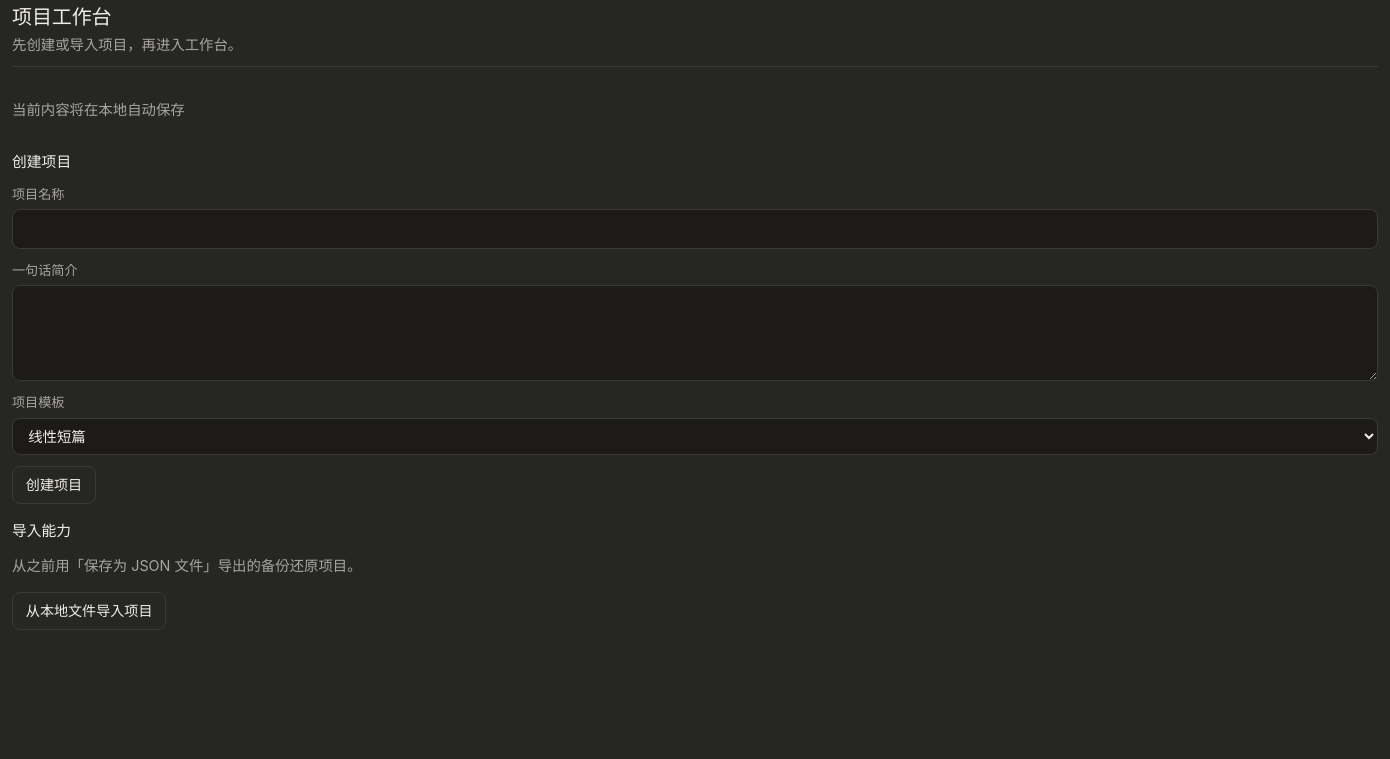
Test: ProjectHomePage › 允许创建共通线 + 角色线模板并初始化结构
Type "雨夜回响" into the field labelled "项目名称".
click(695, 229); type("雨夜回响")  # box [12, 209, 1378, 249]
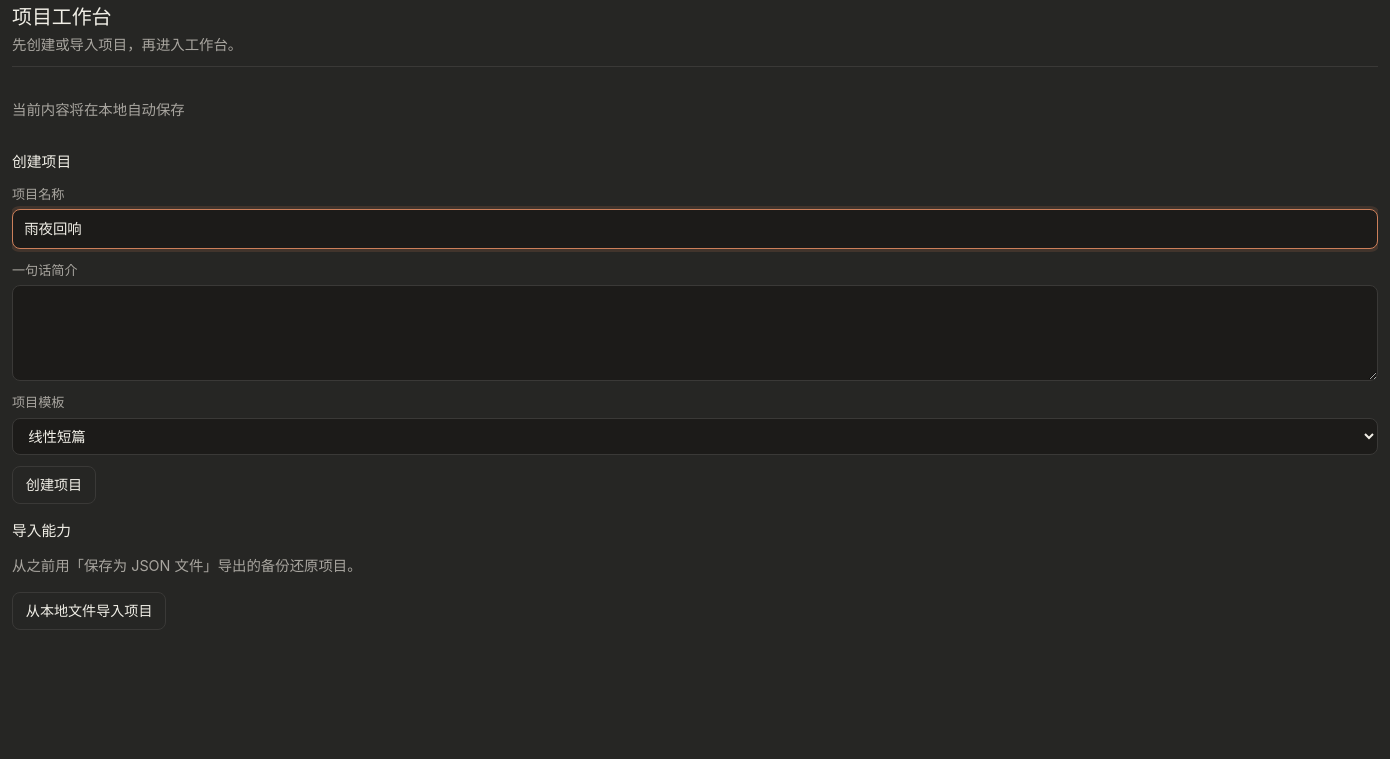
Type "一段校园悬疑故事" into the text box labelled "一句话简介".
click(695, 333); type("一段校园悬疑故事")  # box [12, 285, 1378, 381]
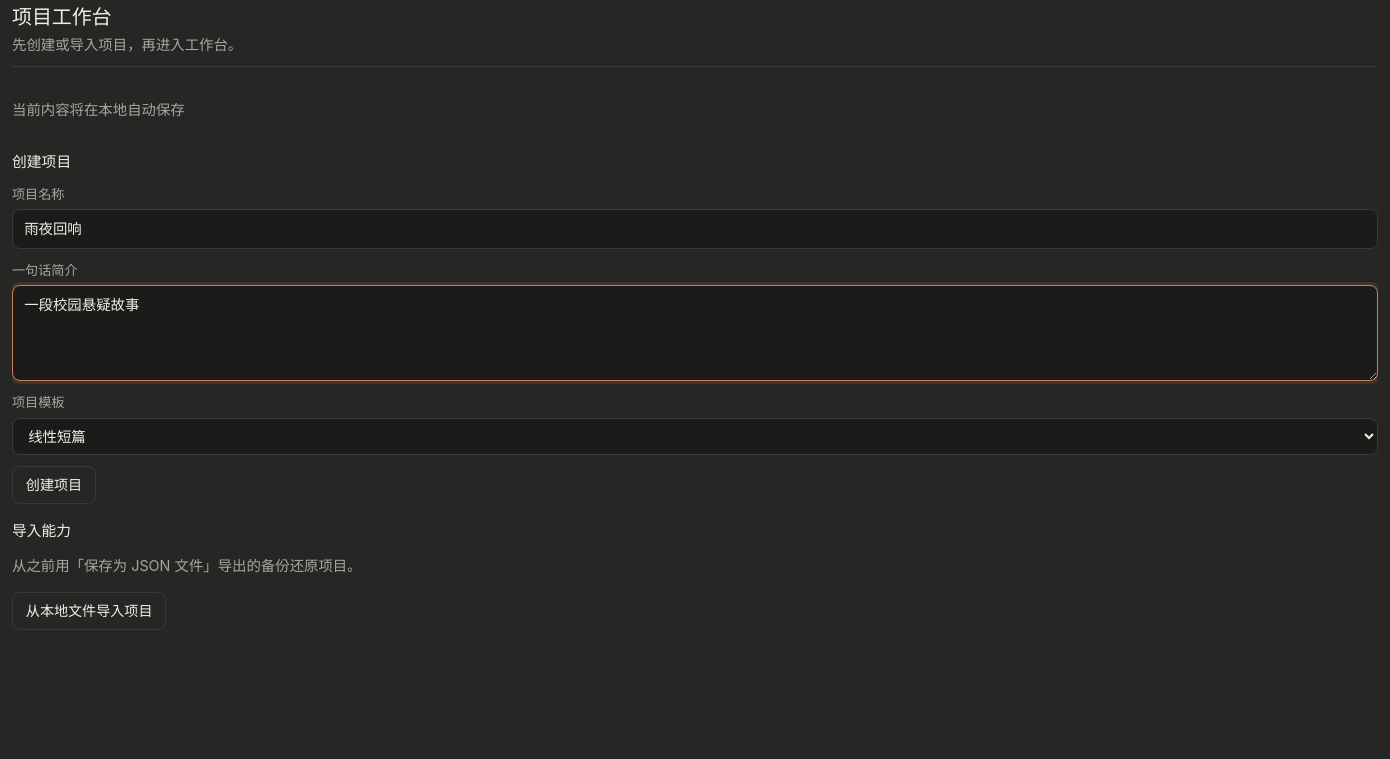
Select "共通线 + 角色线" in the dropdown labelled "项目模板" at {"x": 695, "y": 436}, box [12, 418, 1378, 455]
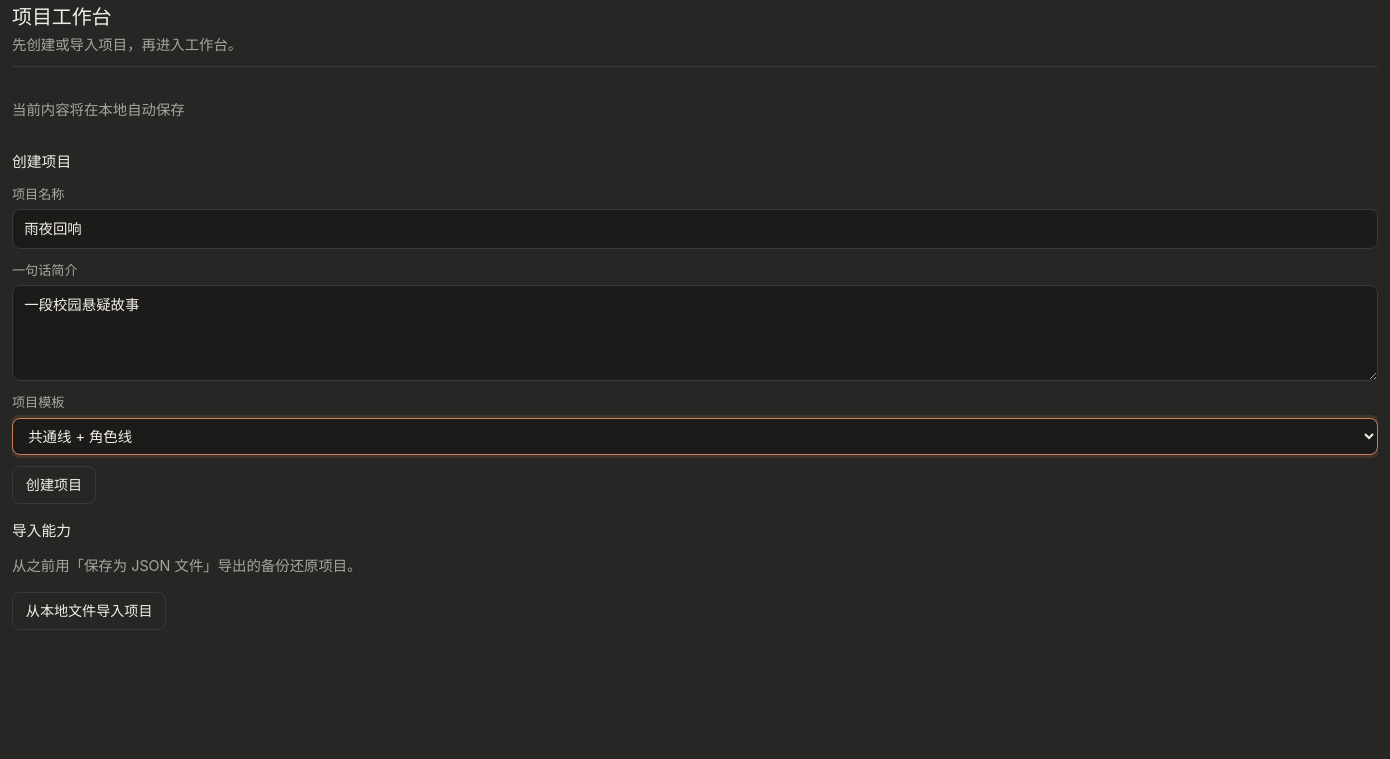
Click the button "创建项目".
click(54, 485)  # box [12, 466, 96, 504]
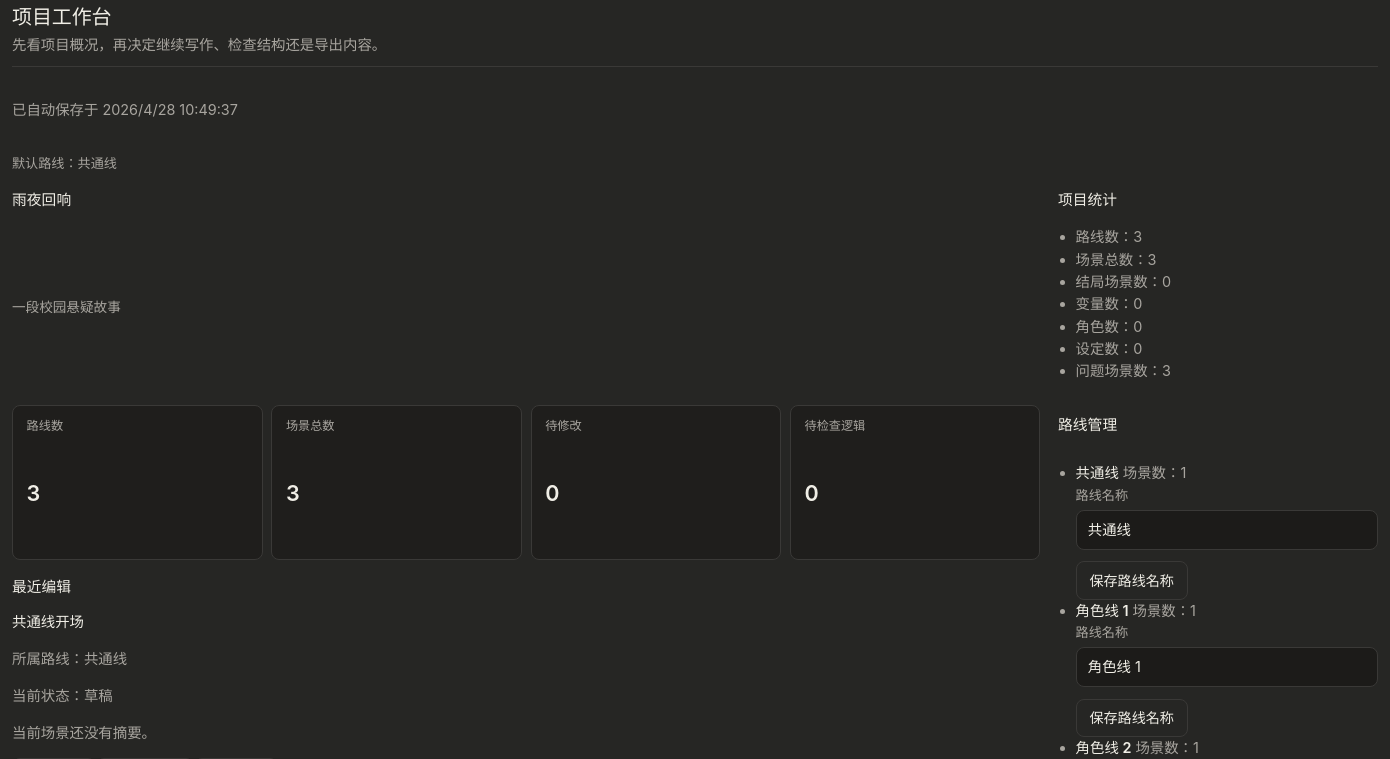
Now the text "共通线" is shown, box [1076, 464, 1119, 482]
Now the text "角色线 1" is shown, box [1076, 602, 1128, 619]
Now the text "角色线 2" is shown, box [1076, 739, 1131, 756]
